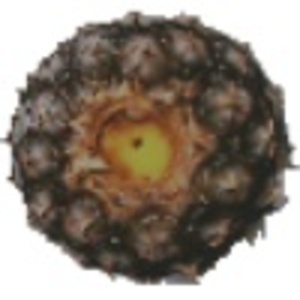abacaxi: (10, 9, 291, 273)
